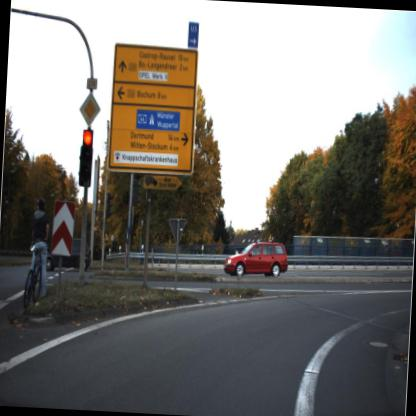other: (76, 89, 102, 128)
